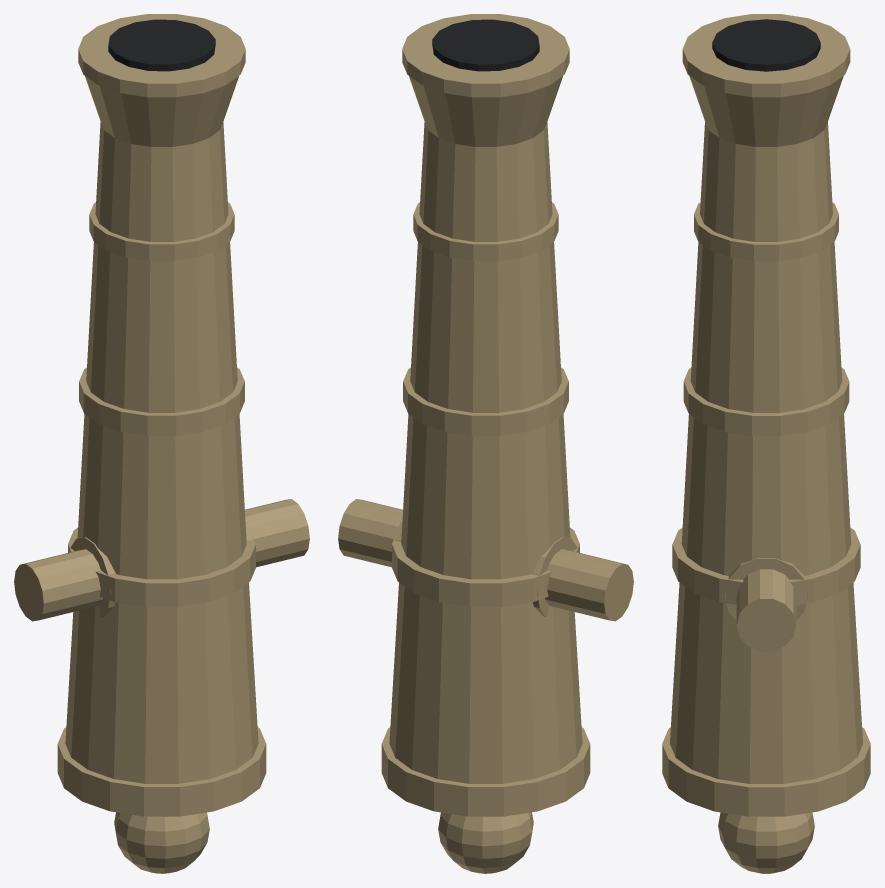
Rendered from cannon.dae.
The picture shows the model from 3 angles, left to right: view 1: azimuth 30°, elevation 25°; view 2: azimuth 150°, elevation 25°; view 3: azimuth 270°, elevation 25°; orthographic projection.
Visible parts, largest first — view 1: ericrolph_cannon_car_wash_lowvram_cannonshape_Chase, ericrolph_cannon_car_wash_lowvram_cannonshape_Breech, ericrolph_cannon_car_wash_lowvram_cannonshape_BaseRing, ericrolph_cannon_car_wash_lowvram_cannonshape_MuzzleFace, ericrolph_cannon_car_wash_lowvram_cannonshape_MuzzleSwell, ericrolph_cannon_car_wash_lowvram_cannonshape_Trunnion_L, ericrolph_cannon_car_wash_lowvram_cannonshape_ReinforceRing1, ericrolph_cannon_car_wash_lowvram_cannonshape_CascabelBall, ericrolph_cannon_car_wash_lowvram_cannonshape_Bore, ericrolph_cannon_car_wash_lowvram_cannonshape_ReinforceRing2, ericrolph_cannon_car_wash_lowvram_cannonshape_Trunnion_R, ericrolph_cannon_car_wash_lowvram_cannonshape_ChaseGirdle (+1 smaller); view 2: ericrolph_cannon_car_wash_lowvram_cannonshape_Chase, ericrolph_cannon_car_wash_lowvram_cannonshape_Breech, ericrolph_cannon_car_wash_lowvram_cannonshape_BaseRing, ericrolph_cannon_car_wash_lowvram_cannonshape_MuzzleFace, ericrolph_cannon_car_wash_lowvram_cannonshape_MuzzleSwell, ericrolph_cannon_car_wash_lowvram_cannonshape_Trunnion_L, ericrolph_cannon_car_wash_lowvram_cannonshape_ReinforceRing1, ericrolph_cannon_car_wash_lowvram_cannonshape_CascabelBall, ericrolph_cannon_car_wash_lowvram_cannonshape_Bore, ericrolph_cannon_car_wash_lowvram_cannonshape_ReinforceRing2, ericrolph_cannon_car_wash_lowvram_cannonshape_Trunnion_R, ericrolph_cannon_car_wash_lowvram_cannonshape_ChaseGirdle (+1 smaller); view 3: ericrolph_cannon_car_wash_lowvram_cannonshape_Chase, ericrolph_cannon_car_wash_lowvram_cannonshape_Breech, ericrolph_cannon_car_wash_lowvram_cannonshape_BaseRing, ericrolph_cannon_car_wash_lowvram_cannonshape_MuzzleFace, ericrolph_cannon_car_wash_lowvram_cannonshape_MuzzleSwell, ericrolph_cannon_car_wash_lowvram_cannonshape_CascabelBall, ericrolph_cannon_car_wash_lowvram_cannonshape_Bore, ericrolph_cannon_car_wash_lowvram_cannonshape_ReinforceRing2, ericrolph_cannon_car_wash_lowvram_cannonshape_ReinforceRing1, ericrolph_cannon_car_wash_lowvram_cannonshape_Trunnion_R, ericrolph_cannon_car_wash_lowvram_cannonshape_ChaseGirdle, ericrolph_cannon_car_wash_lowvram_cannonshape_Rimbase_R.
Boxes of the visible parts, bbox=[...] form: ericrolph_cannon_car_wash_lowvram_cannonshape_Chase: bbox=[77, 122, 246, 579]; ericrolph_cannon_car_wash_lowvram_cannonshape_Breech: bbox=[65, 582, 258, 783]; ericrolph_cannon_car_wash_lowvram_cannonshape_BaseRing: bbox=[57, 727, 266, 816]; ericrolph_cannon_car_wash_lowvram_cannonshape_MuzzleFace: bbox=[78, 14, 245, 97]; ericrolph_cannon_car_wash_lowvram_cannonshape_MuzzleSwell: bbox=[85, 76, 238, 146]; ericrolph_cannon_car_wash_lowvram_cannonshape_Trunnion_L: bbox=[14, 549, 102, 621]; ericrolph_cannon_car_wash_lowvram_cannonshape_ReinforceRing1: bbox=[68, 527, 255, 606]; ericrolph_cannon_car_wash_lowvram_cannonshape_CascabelBall: bbox=[114, 812, 209, 873]; ericrolph_cannon_car_wash_lowvram_cannonshape_Bore: bbox=[108, 19, 215, 71]; ericrolph_cannon_car_wash_lowvram_cannonshape_ReinforceRing2: bbox=[79, 367, 244, 435]; ericrolph_cannon_car_wash_lowvram_cannonshape_Trunnion_R: bbox=[245, 499, 309, 567]; ericrolph_cannon_car_wash_lowvram_cannonshape_ChaseGirdle: bbox=[89, 202, 234, 261]; ericrolph_cannon_car_wash_lowvram_cannonshape_Chase: bbox=[401, 122, 570, 579]; ericrolph_cannon_car_wash_lowvram_cannonshape_Breech: bbox=[389, 582, 582, 783]; ericrolph_cannon_car_wash_lowvram_cannonshape_BaseRing: bbox=[381, 727, 590, 816]; ericrolph_cannon_car_wash_lowvram_cannonshape_MuzzleFace: bbox=[402, 14, 569, 97]; ericrolph_cannon_car_wash_lowvram_cannonshape_MuzzleSwell: bbox=[409, 76, 562, 146]; ericrolph_cannon_car_wash_lowvram_cannonshape_Trunnion_L: bbox=[545, 549, 633, 621]; ericrolph_cannon_car_wash_lowvram_cannonshape_ReinforceRing1: bbox=[392, 527, 579, 606]; ericrolph_cannon_car_wash_lowvram_cannonshape_CascabelBall: bbox=[438, 812, 533, 873]; ericrolph_cannon_car_wash_lowvram_cannonshape_Bore: bbox=[432, 19, 539, 71]; ericrolph_cannon_car_wash_lowvram_cannonshape_ReinforceRing2: bbox=[403, 367, 568, 435]; ericrolph_cannon_car_wash_lowvram_cannonshape_Trunnion_R: bbox=[338, 499, 402, 567]; ericrolph_cannon_car_wash_lowvram_cannonshape_ChaseGirdle: bbox=[413, 202, 558, 261]; ericrolph_cannon_car_wash_lowvram_cannonshape_Chase: bbox=[681, 122, 851, 575]; ericrolph_cannon_car_wash_lowvram_cannonshape_Breech: bbox=[670, 582, 862, 783]; ericrolph_cannon_car_wash_lowvram_cannonshape_BaseRing: bbox=[662, 727, 870, 816]; ericrolph_cannon_car_wash_lowvram_cannonshape_MuzzleFace: bbox=[682, 14, 850, 97]; ericrolph_cannon_car_wash_lowvram_cannonshape_MuzzleSwell: bbox=[689, 76, 843, 146]; ericrolph_cannon_car_wash_lowvram_cannonshape_CascabelBall: bbox=[718, 812, 814, 873]; ericrolph_cannon_car_wash_lowvram_cannonshape_Bore: bbox=[712, 19, 820, 71]; ericrolph_cannon_car_wash_lowvram_cannonshape_ReinforceRing2: bbox=[683, 368, 849, 435]; ericrolph_cannon_car_wash_lowvram_cannonshape_ReinforceRing1: bbox=[672, 527, 860, 604]; ericrolph_cannon_car_wash_lowvram_cannonshape_Trunnion_R: bbox=[736, 569, 796, 651]; ericrolph_cannon_car_wash_lowvram_cannonshape_ChaseGirdle: bbox=[694, 202, 838, 261]; ericrolph_cannon_car_wash_lowvram_cannonshape_Rimbase_R: bbox=[724, 558, 808, 620].
Bounding box in the file's own units: 0.33 × 0.224 × 0.981.
